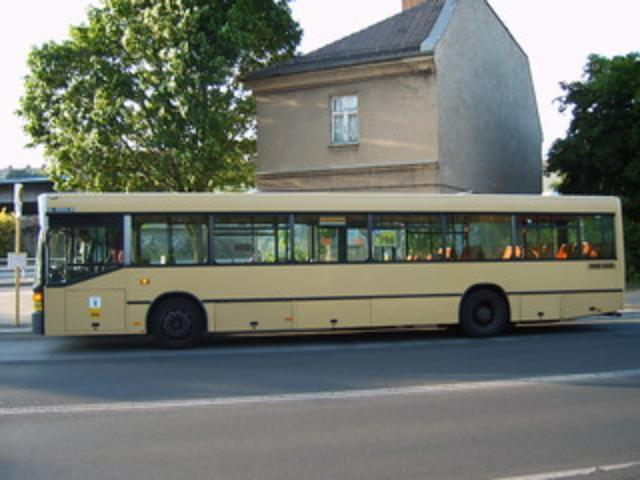bus: (32, 190, 626, 348)
